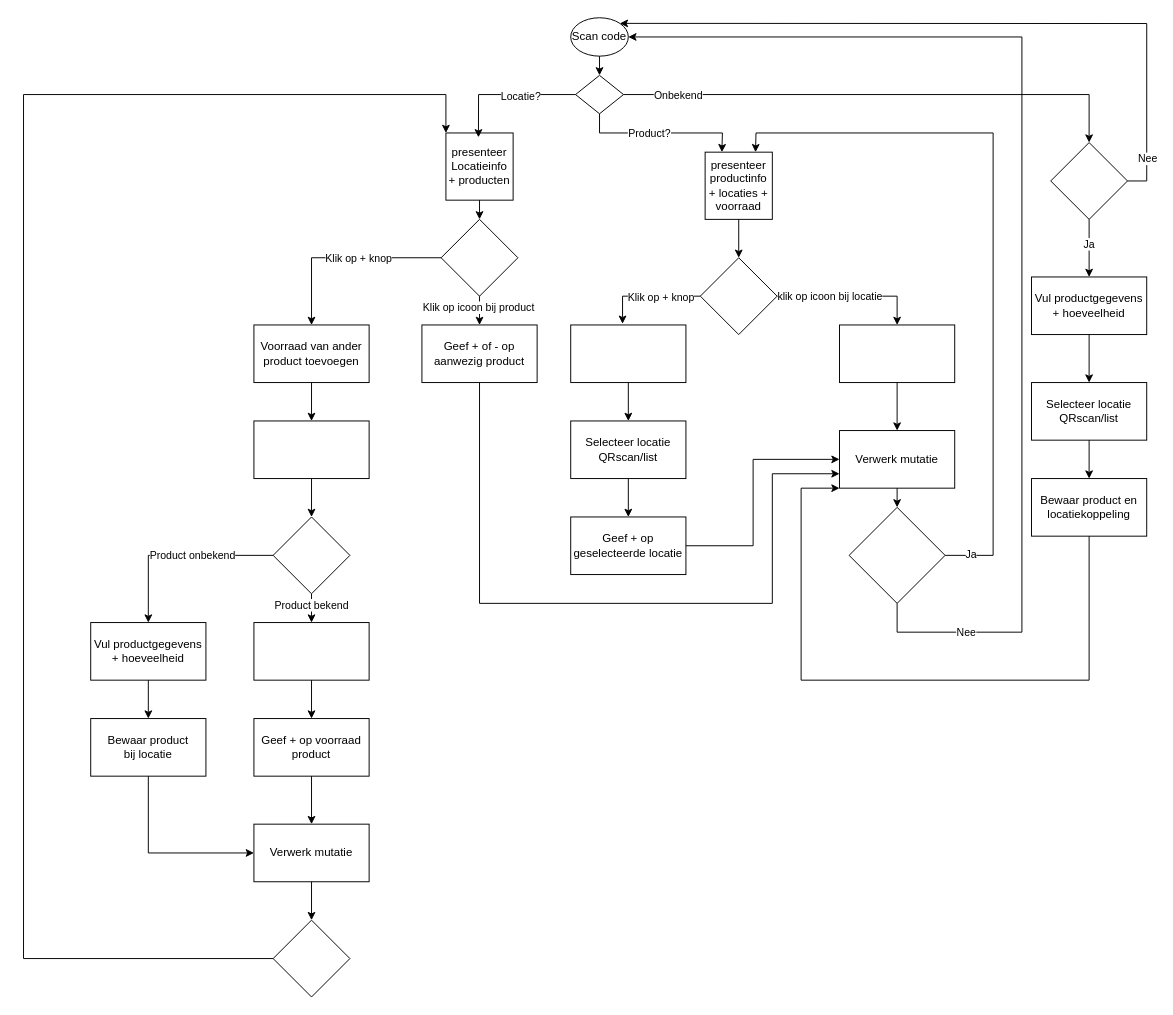
The diagram is 1173 pixels wide and 1015 high, and some of its shapes have lost their labels. Each missing label, with the centre of its shape:
Doorgaan met locatie?: (x=311, y=958)
Doorgaan met product?: (x=896, y=554)
Geef + of - op aanwezig locatie: (x=897, y=353)
Is het een nieuw product?: (x=1089, y=180)
Scan barcode: (x=311, y=449)
Toon productinfo: (x=311, y=651)
Voorraad op andere locatie toevoegen: (x=628, y=353)
